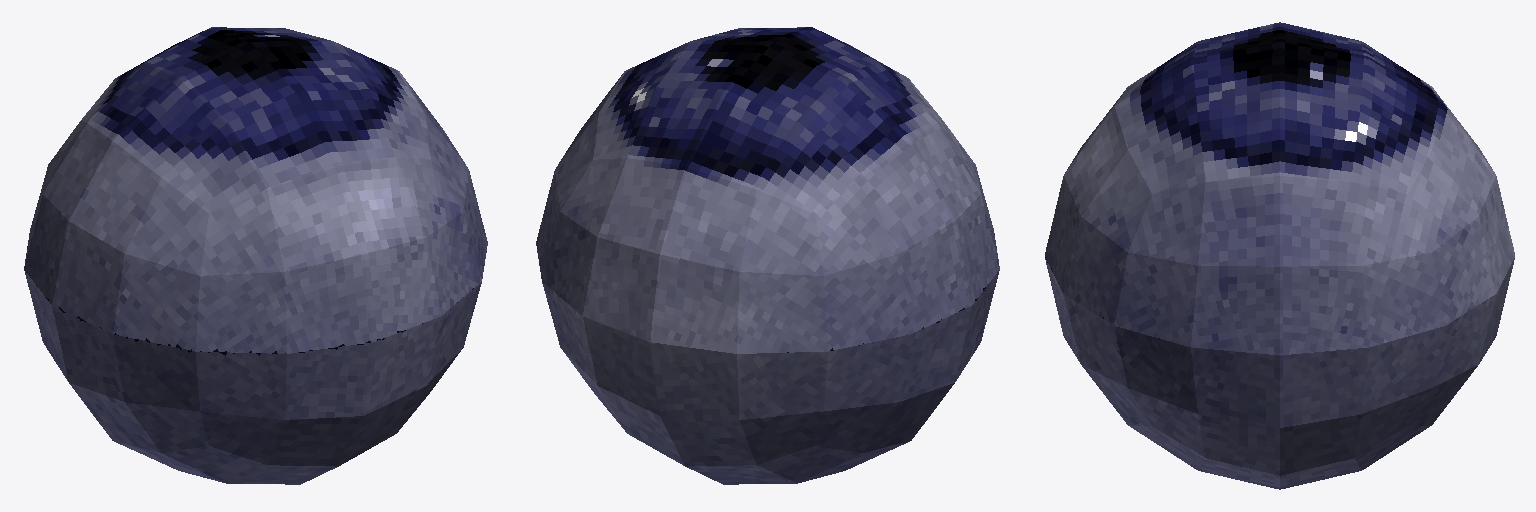
The picture shows the model from 3 angles: view 1: azimuth 30°, elevation 25°; view 2: azimuth 150°, elevation 25°; view 3: azimuth 270°, elevation 25°; orthographic projection.
Parts seen in each view (by area): view 1: Base; view 2: Base; view 3: Base.
Boxes of the visible parts, x1=… form: Base: x1=24, y1=27, x2=487, y2=484; Base: x1=536, y1=27, x2=999, y2=484; Base: x1=1045, y1=22, x2=1514, y2=489.
Size of the model in its own units: 0.3558 by 0.3558 by 0.3558.
Materials: 1 (1 with a texture image).